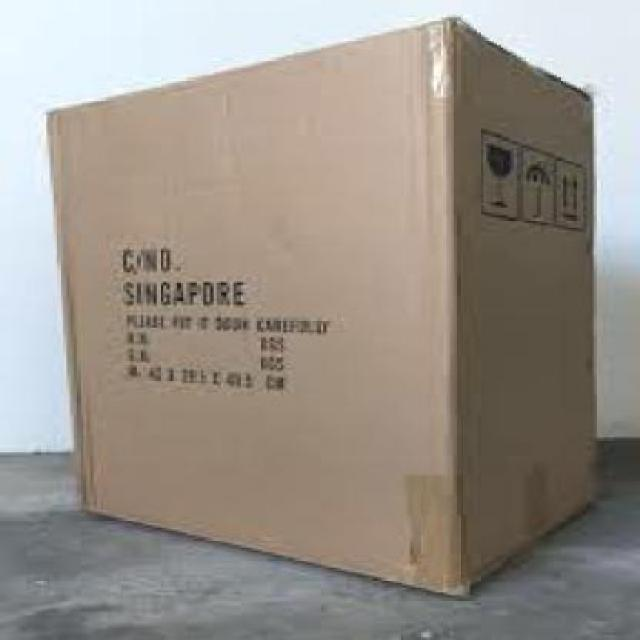box: (30, 18, 613, 606)
